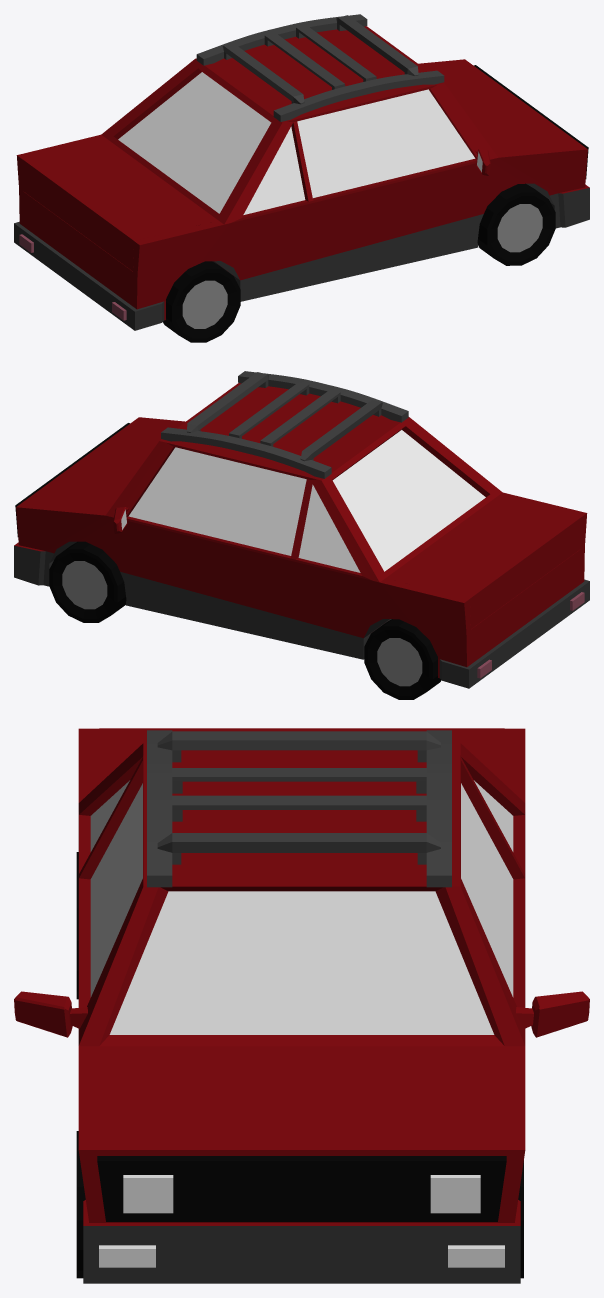
The model's file is car1.fbx.
3 renders of one model, top to bottom at view 1: azimuth 30°, elevation 25°; view 2: azimuth 150°, elevation 25°; view 3: azimuth 270°, elevation 25°, orthographic. The views are drawn at different scales.
Parts seen in each view (by area): view 1: CarChasis, CarTrunk, WheelFrontRight, WheelBackRight; view 2: CarChasis, CarTrunk, WheelFrontLeft, WheelBackLeft; view 3: CarChasis, CarTrunk, WheelFrontRight.
Boxes of the visible parts, x1,y1,x2,y2 form: CarChasis: (14,14,589,330); CarTrunk: (22,139,218,270); WheelFrontRight: (477,183,555,265); WheelBackRight: (163,261,240,342); CarChasis: (14,371,589,688); CarTrunk: (386,496,581,628); WheelFrontLeft: (49,541,126,622); WheelBackLeft: (364,619,441,699); CarChasis: (14,728,589,1283); CarTrunk: (99,728,504,783); WheelFrontRight: (76,1131,85,1278).
Bounding box in the file's own units: 376 × 154 × 222.
